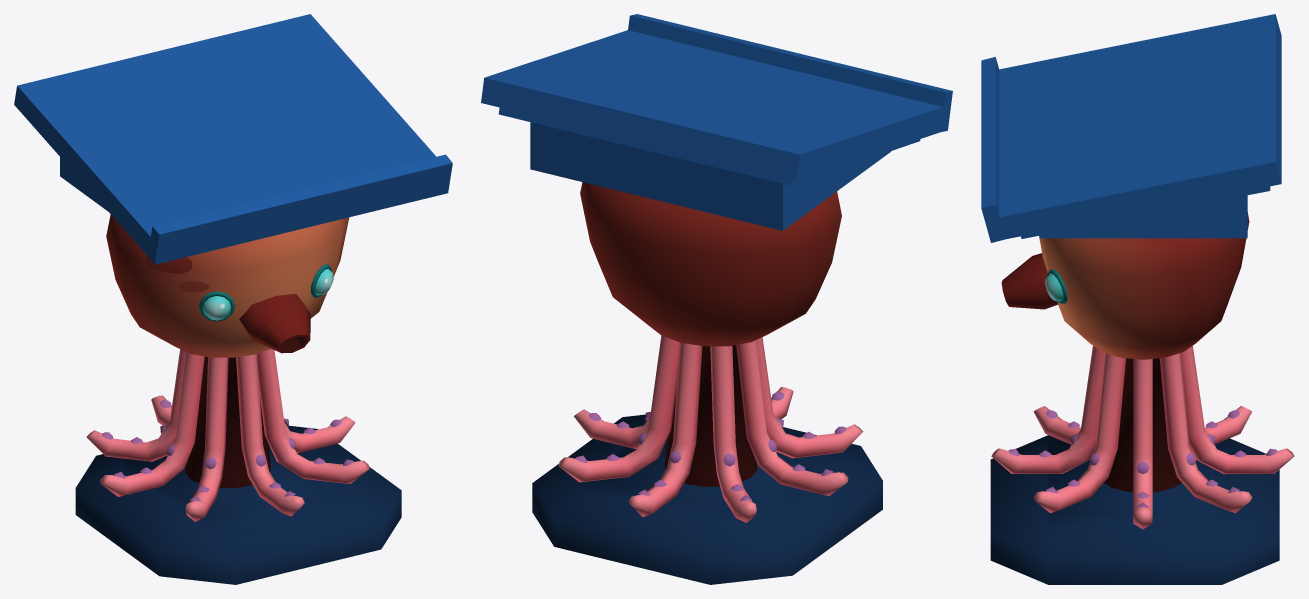
The picture shows the model from 3 angles, left to right: view 1: azimuth 30°, elevation 25°; view 2: azimuth 150°, elevation 25°; view 3: azimuth 270°, elevation 25°; orthographic projection. The views are drawn at different scales.
Visible parts, largest first — view 1: OctoPodium; view 2: OctoPodium; view 3: OctoPodium.
Boxes of the visible parts, x1=… form: OctoPodium: x1=14, y1=14, x2=452, y2=584; OctoPodium: x1=481, y1=14, x2=952, y2=584; OctoPodium: x1=981, y1=14, x2=1294, y2=584.
Bounding box in the file's own units: 8.46 × 11.52 × 7.56.
Materials: 2 (1 with a texture image).
